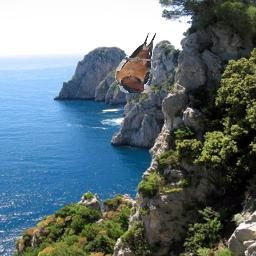Swallow: (116, 33, 157, 94)
